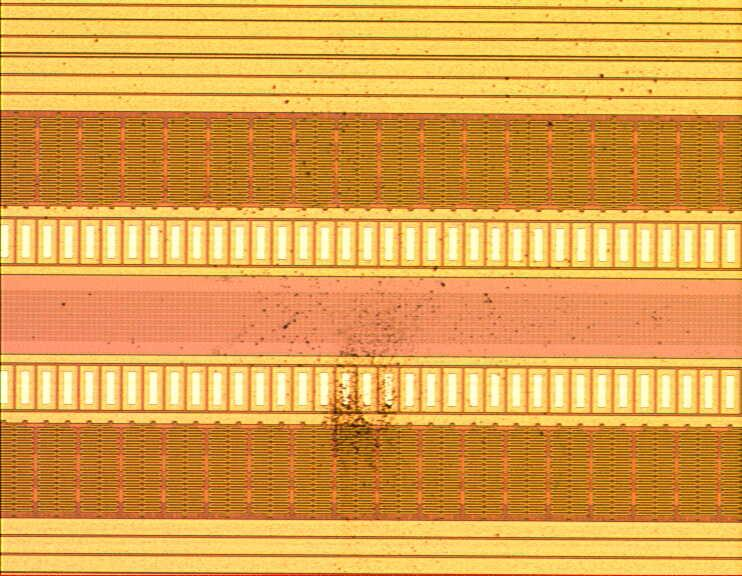PO CONTAMINATION: (58, 11, 726, 509)
